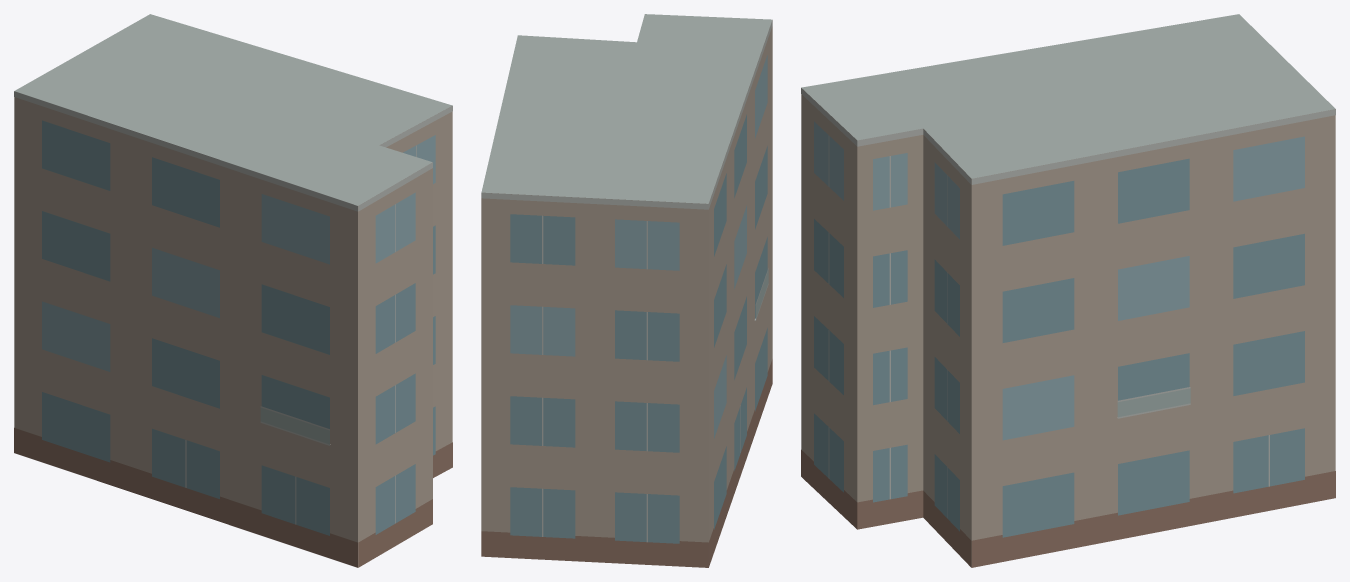
The model's file is survey-upis-32845803.glb.
3 views of the same model, side by side, from view 1: azimuth 30°, elevation 25°; view 2: azimuth 150°, elevation 25°; view 3: azimuth 270°, elevation 25° (orthographic). The views are drawn at different scales.
Visible parts, largest first — view 1: survey-upis-32845803.tmp; view 2: survey-upis-32845803.tmp; view 3: survey-upis-32845803.tmp.
Part boxes in pixels (x1,y1,x2,y2): survey-upis-32845803.tmp: [14, 14, 452, 567]; survey-upis-32845803.tmp: [481, 14, 772, 567]; survey-upis-32845803.tmp: [801, 14, 1335, 567].
Bounding box in the file's own units: 13.91 × 15.3 × 19.07.
